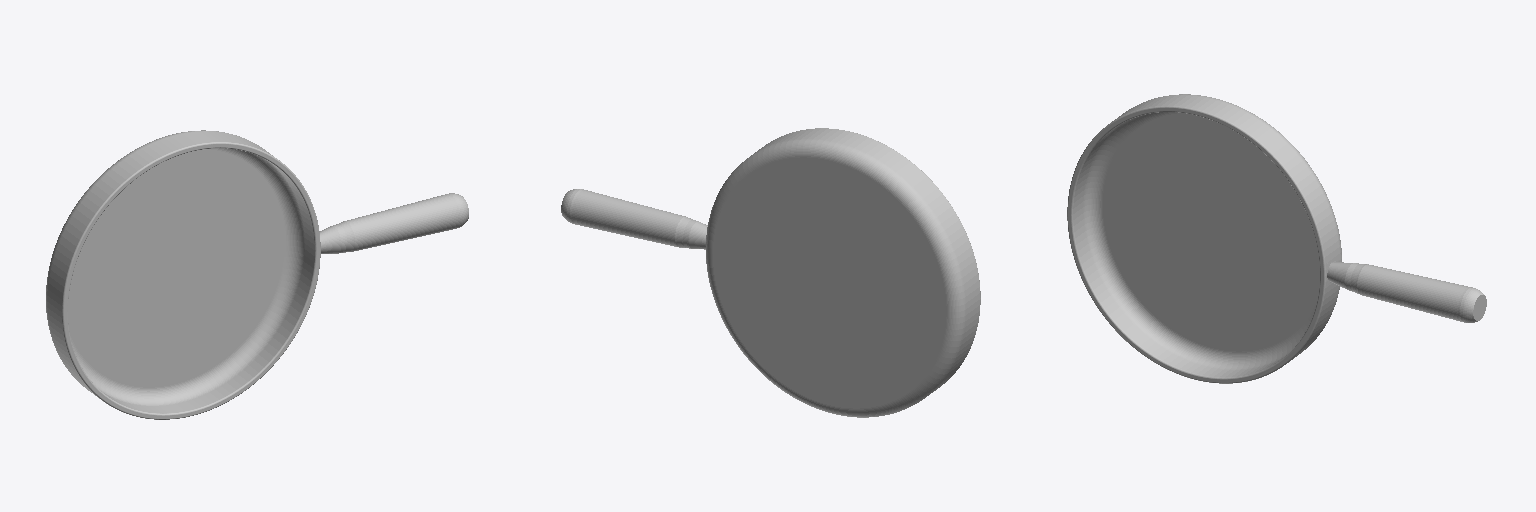
File: Leg_Pan.obj
3 views of the same model, side by side, from view 1: azimuth 30°, elevation 25°; view 2: azimuth 150°, elevation 25°; view 3: azimuth 330°, elevation 25° (orthographic).
Visible parts, largest first — view 1: pan_leg; view 2: pan_leg; view 3: pan_leg.
Part boxes in pixels (bbox=[...]): pan_leg: bbox=[46, 130, 468, 419]; pan_leg: bbox=[561, 128, 980, 417]; pan_leg: bbox=[1067, 94, 1486, 383].
Bounding box in the file's own units: 83.33 × 53 × 8.68.